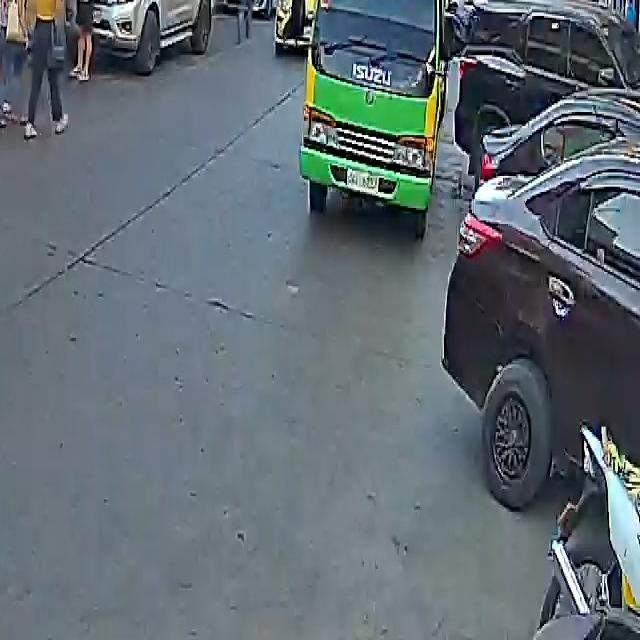car: (444, 59, 640, 533), (450, 0, 639, 194), (77, 0, 222, 69), (268, 0, 334, 52), (217, 0, 290, 18)
